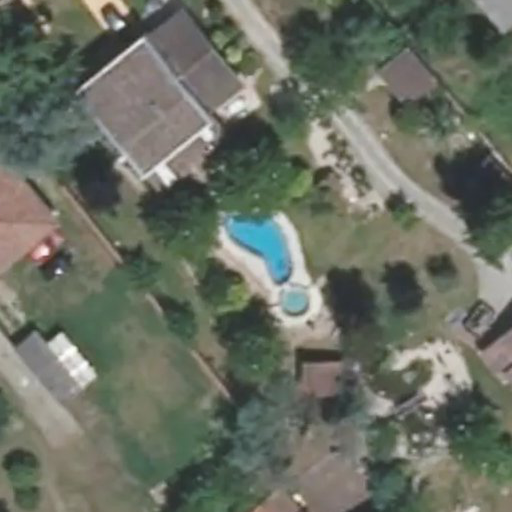pool: (196, 219, 322, 259)
